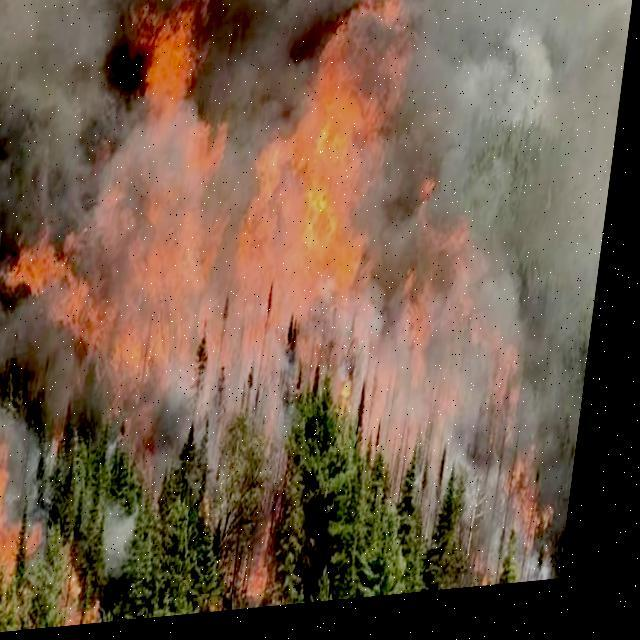Fire: (0, 0, 617, 623)
